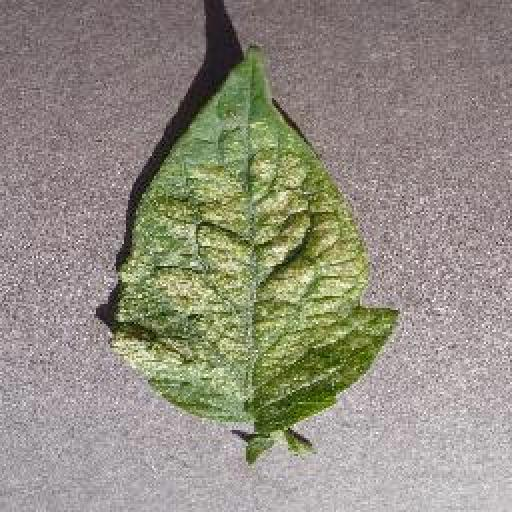disease_tomato: (110, 48, 400, 430)
